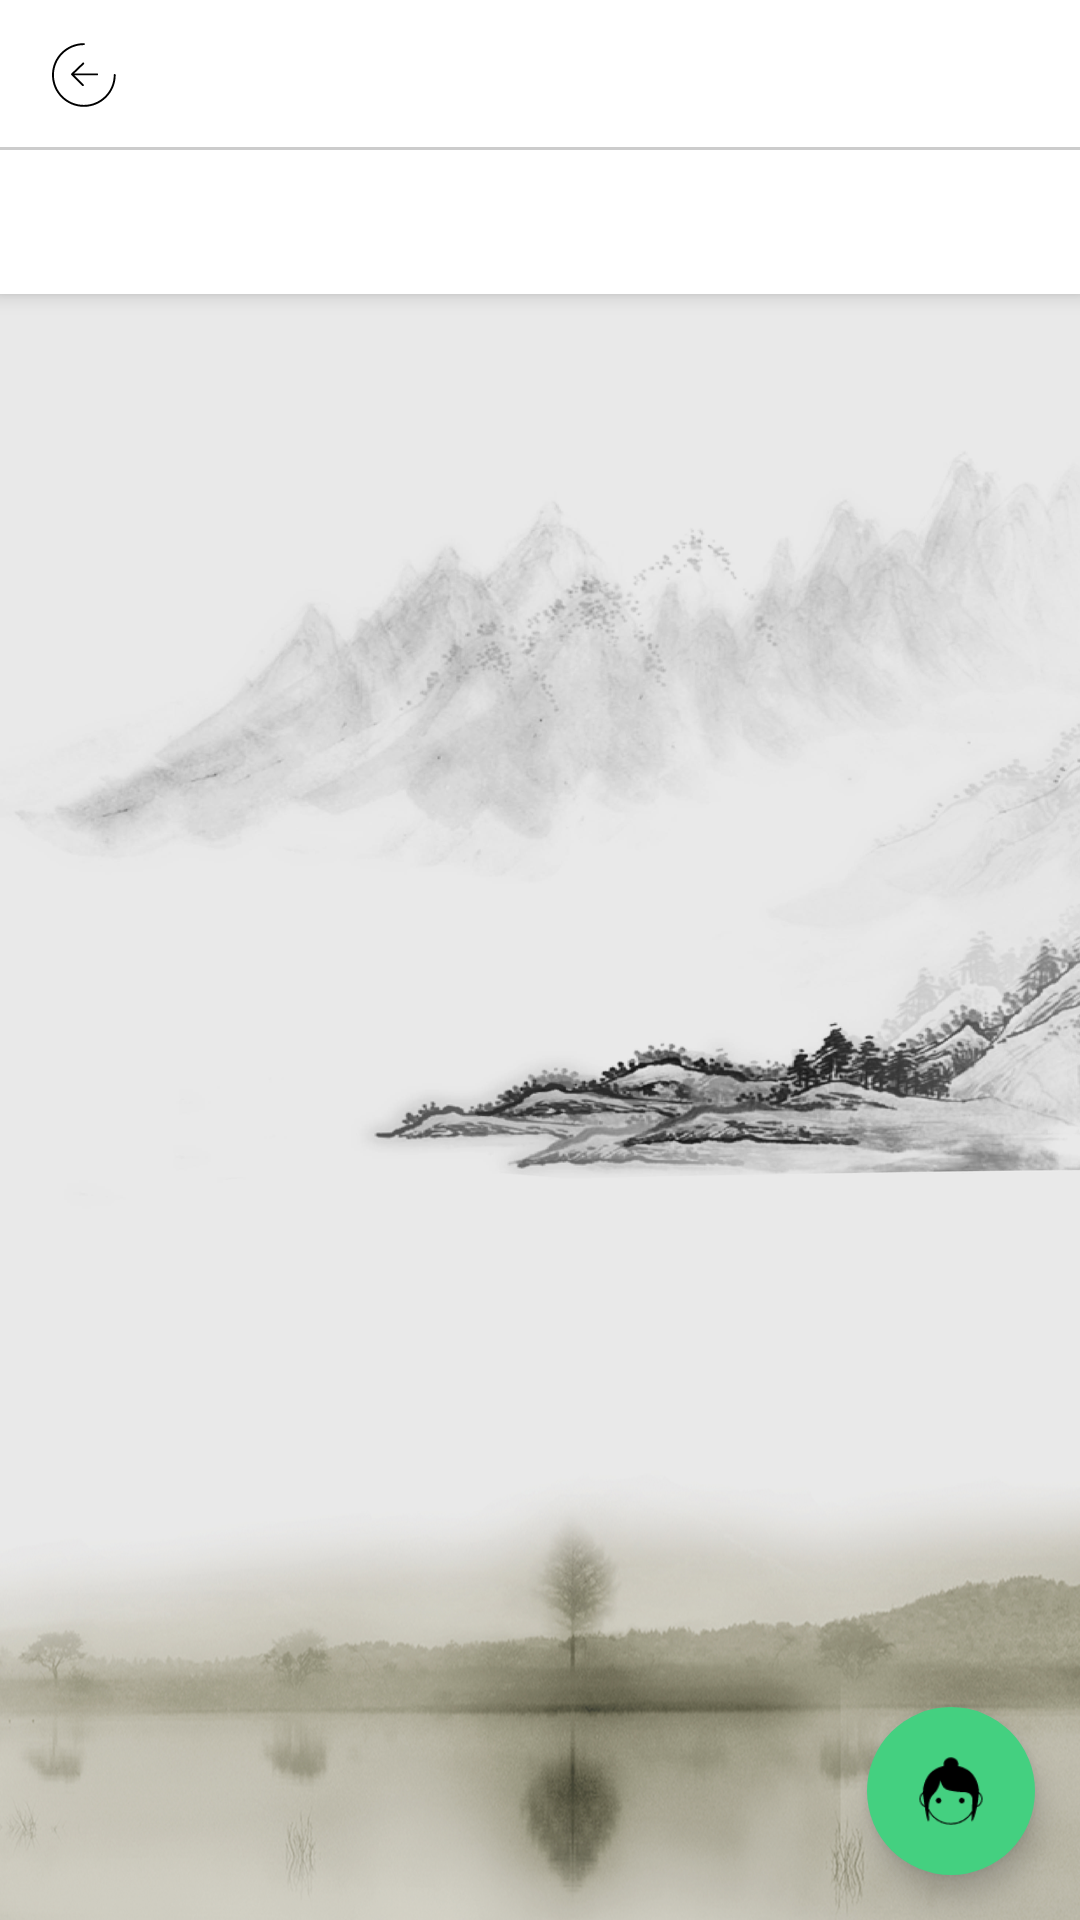

Icon bounding boxes for this 1080px×1920px phone screenshot, format (x1, y1, x2, y2):
girl: (867, 1707, 1035, 1875)
